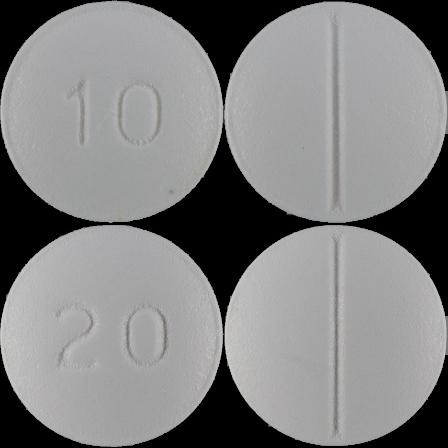16729-169: (0, 0, 224, 224)
